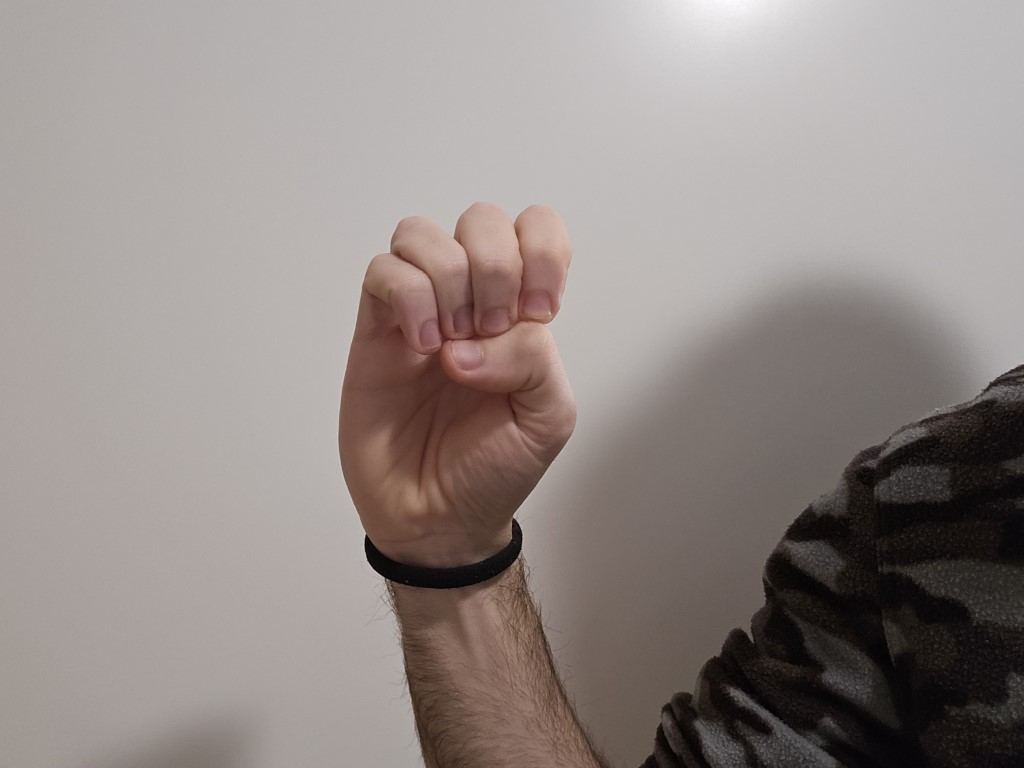e: (308, 189, 597, 550)
